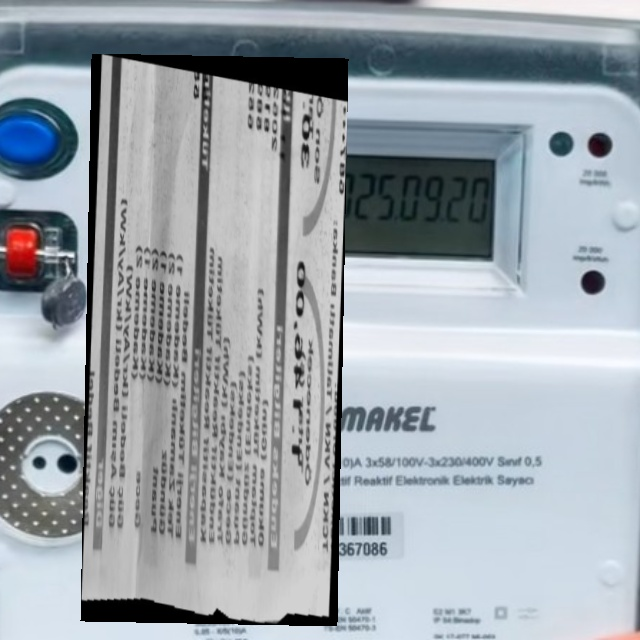electricity-bill: (80, 54, 348, 626)
